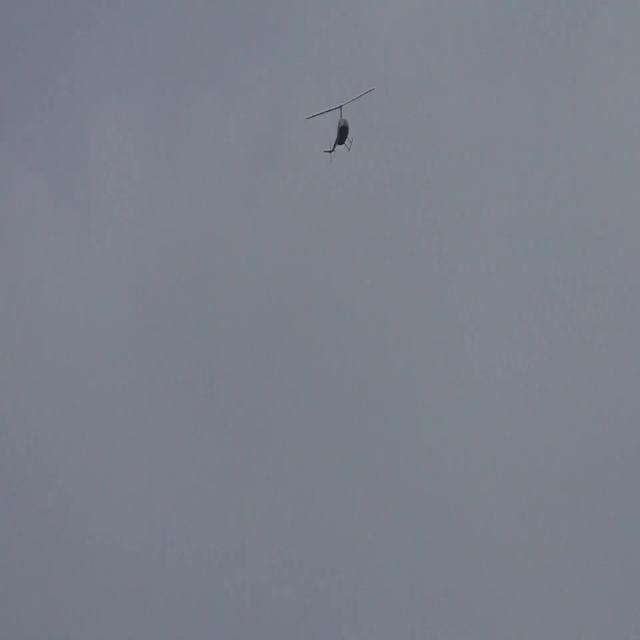CIV_HELO: (324, 103, 354, 155)
